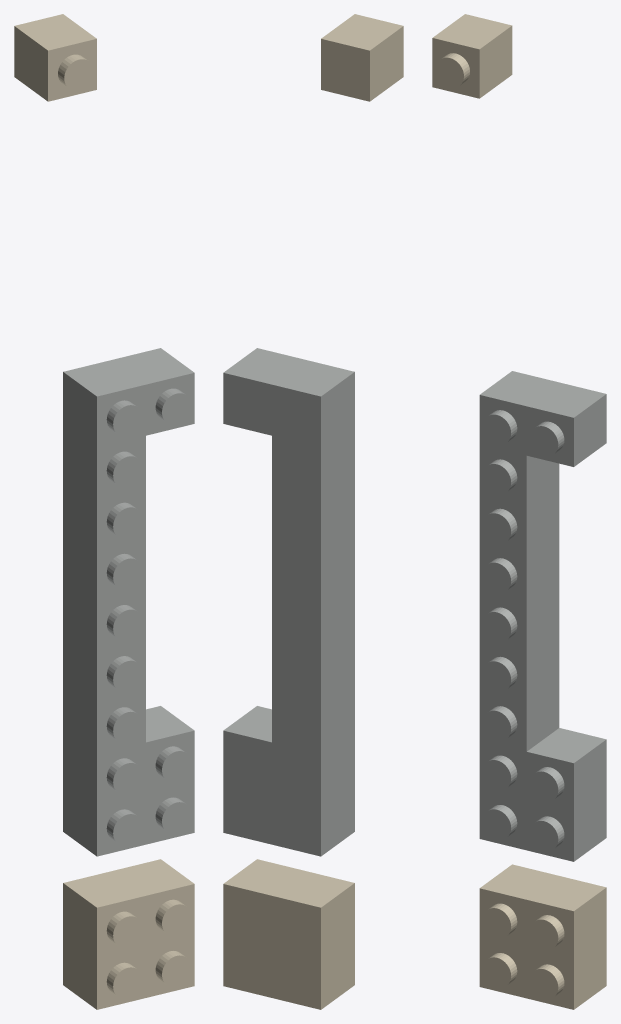
Rendered from current.glb.
The picture shows the model from 3 angles, left to right: view 1: azimuth 30°, elevation 25°; view 2: azimuth 150°, elevation 25°; view 3: azimuth 330°, elevation 25°; orthographic projection. The views are drawn at different scales.
Parts seen in each view (by area): view 1: world; view 2: world; view 3: world.
Part boxes in pixels (box(x1,y1,x2,y2)): world: box(14, 14, 194, 1009); world: box(223, 14, 403, 1009); world: box(432, 14, 606, 1009).
Bounding box in the file's own units: 24 × 152 × 11.4.
